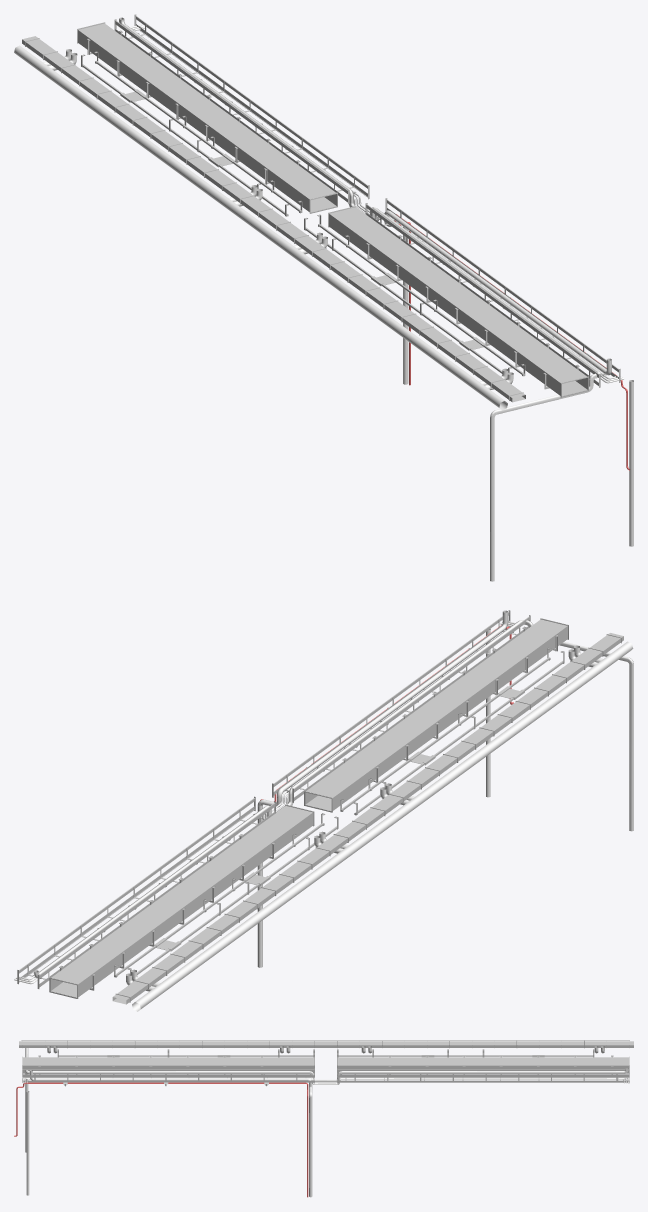
3 renders of one model, top to bottom at view 1: azimuth 30°, elevation 25°; view 2: azimuth 150°, elevation 25°; view 3: azimuth 270°, elevation 25°, orthographic. The views are drawn at different scales.
Visible parts, largest first — view 1: SM_I_RoadFacility_Ground_L_13B; view 2: SM_I_RoadFacility_Ground_L_13B; view 3: SM_I_RoadFacility_Ground_L_13B.
Part boxes in pixels (box(x1,y1,x2,y2)): SM_I_RoadFacility_Ground_L_13B: box(14, 14, 633, 581); SM_I_RoadFacility_Ground_L_13B: box(14, 610, 633, 1011); SM_I_RoadFacility_Ground_L_13B: box(14, 1040, 633, 1197).
Bounding box in the file's own units: 673 × 114 × 144.
